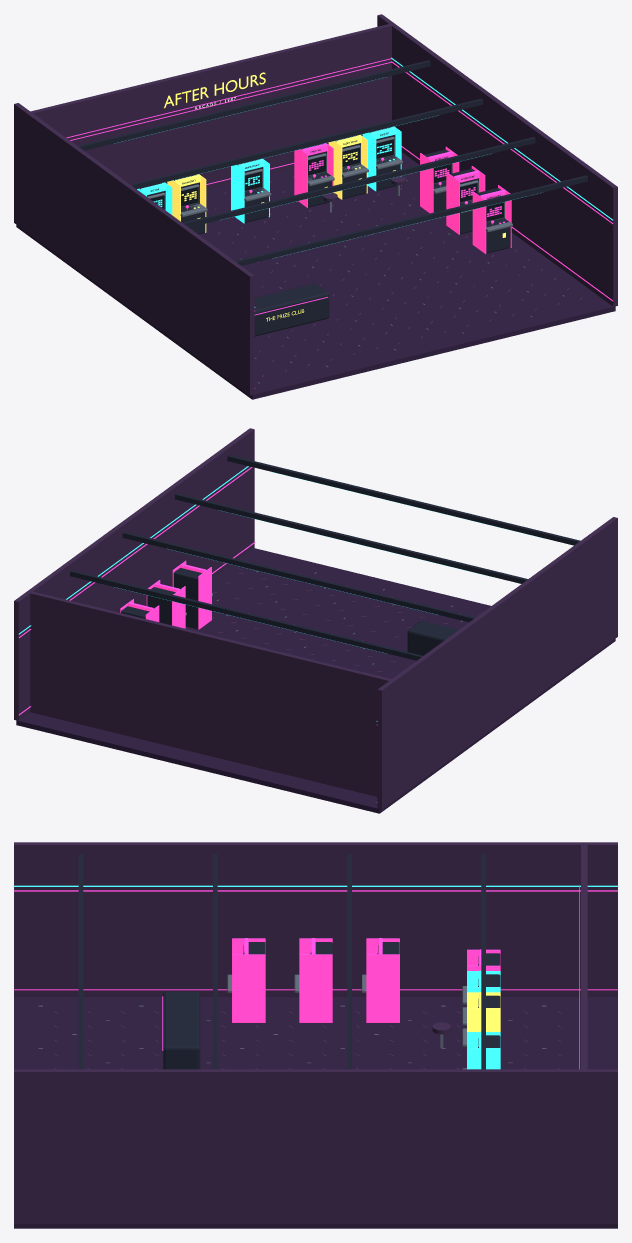
Rendered from arcade.glb.
3 renders of one model, top to bottom at view 1: azimuth 30°, elevation 25°; view 2: azimuth 150°, elevation 25°; view 3: azimuth 270°, elevation 25°, orthographic. The views are drawn at different scales.
Visible parts, largest first — view 1: Carpet, Side wall, Back wall, Side wall.001, Prize counter, Ceiling beam.002, Ceiling beam.001, Ceiling beam.003, Ceiling beam, Colored side trim.020, Colored side trim.022, Colored side trim.024 (+4 smaller); view 2: Back wall, Side wall, Carpet, Side wall.001, Ceiling beam, Ceiling beam.002, Ceiling beam.003, Ceiling beam.001, Prize counter, Colored side trim.020, Cabinet tower AFTER DARK.003, Cabinet tower AFTER DARK.004; view 3: Side wall.001, Side wall, Carpet, Prize counter, Colored side trim.015, Colored side trim.017, Colored side trim.019, Back wall, Ceiling beam, Wall neon.001, Wall neon.002, Ceiling beam.001 (+5 smaller).
Part boxes in pixels (x1,y1,x2,y2): Carpet: (16, 152, 615, 399); Side wall: (14, 103, 254, 395); Back wall: (28, 23, 393, 189); Side wall.001: (377, 14, 617, 306); Prize counter: (254, 283, 329, 336); Ceiling beam.002: (130, 98, 483, 189); Ceiling beam.001: (182, 137, 535, 227); Ceiling beam.003: (78, 60, 430, 150); Ceiling beam: (235, 175, 587, 265); Colored side trim.020: (472, 191, 486, 253); Colored side trim.022: (446, 172, 459, 234); Colored side trim.024: (420, 153, 433, 213); Back wall: (29, 591, 393, 796); Side wall: (377, 517, 617, 809); Carpet: (16, 548, 615, 813); Side wall.001: (14, 428, 254, 720); Ceiling beam: (227, 455, 580, 545); Ceiling beam.002: (122, 532, 475, 622); Ceiling beam.003: (70, 570, 422, 660); Ceiling beam.001: (175, 493, 527, 583); Prize counter: (407, 620, 458, 655); Colored side trim.020: (198, 567, 211, 629); Cabinet tower AFTER DARK.003: (173, 567, 201, 607); Cabinet tower AFTER DARK.004: (147, 587, 175, 625); Side wall.001: (14, 1069, 617, 1223); Side wall: (14, 842, 617, 996); Carpet: (14, 997, 617, 1228); Prize counter: (163, 991, 200, 1069); Colored side trim.015: (232, 954, 265, 1022); Colored side trim.017: (299, 954, 332, 1022); Colored side trim.019: (366, 954, 399, 1022); Back wall: (581, 843, 587, 1070); Ceiling beam: (78, 854, 83, 1069); Wall neon.001: (14, 890, 617, 891); Wall neon.002: (14, 885, 617, 886); Ceiling beam.001: (213, 854, 217, 1069).
Bounding box in the file's own units: 16.2 × 5.2 × 18.
